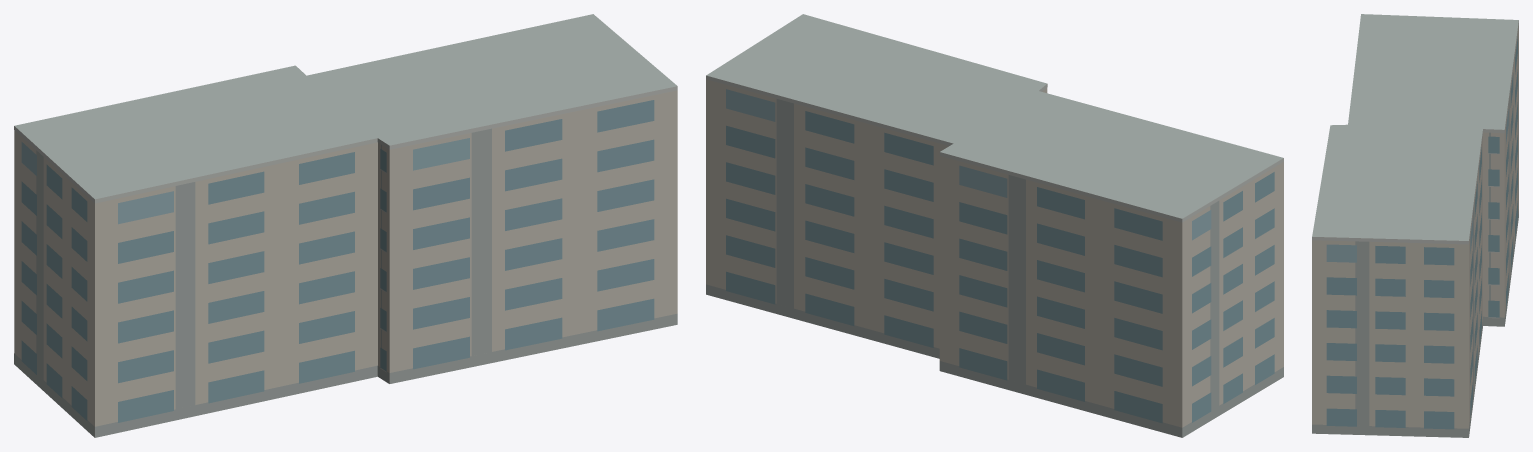
Rendered from survey-upis-32753846.glb.
The picture shows the model from 3 angles, left to right: view 1: azimuth 30°, elevation 25°; view 2: azimuth 150°, elevation 25°; view 3: azimuth 270°, elevation 25°; orthographic projection. The views are drawn at different scales.
Visible parts, largest first — view 1: survey-upis-32753846.tmp; view 2: survey-upis-32753846.tmp; view 3: survey-upis-32753846.tmp.
Boxes of the visible parts, x1,y1,x2,y2 form: survey-upis-32753846.tmp: [14, 14, 677, 437]; survey-upis-32753846.tmp: [706, 14, 1283, 437]; survey-upis-32753846.tmp: [1312, 14, 1518, 437].
Size of the model in its own units: 34.89 by 14.1 by 13.44.
